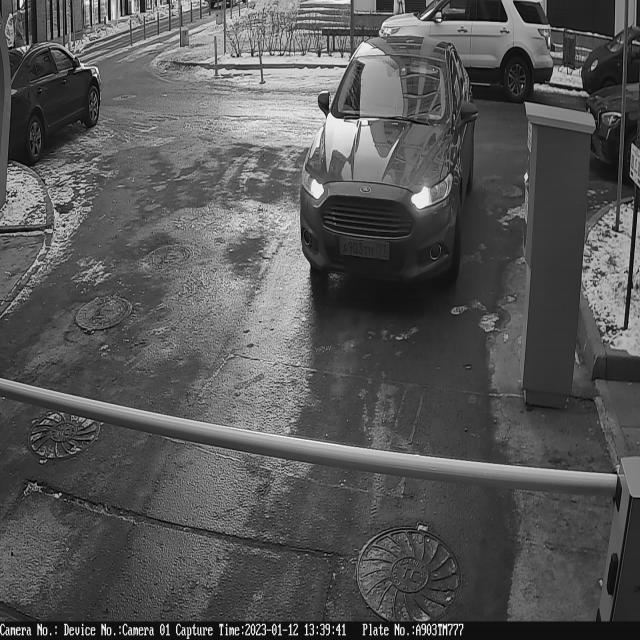car-plate-numbers: (335, 226, 392, 264)
